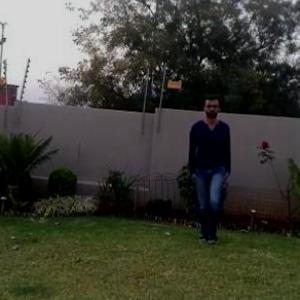follow: (182, 94, 231, 240)
